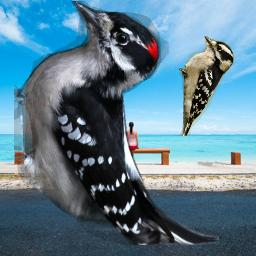Woodpecker: (14, 1, 219, 245), (179, 36, 234, 136)
